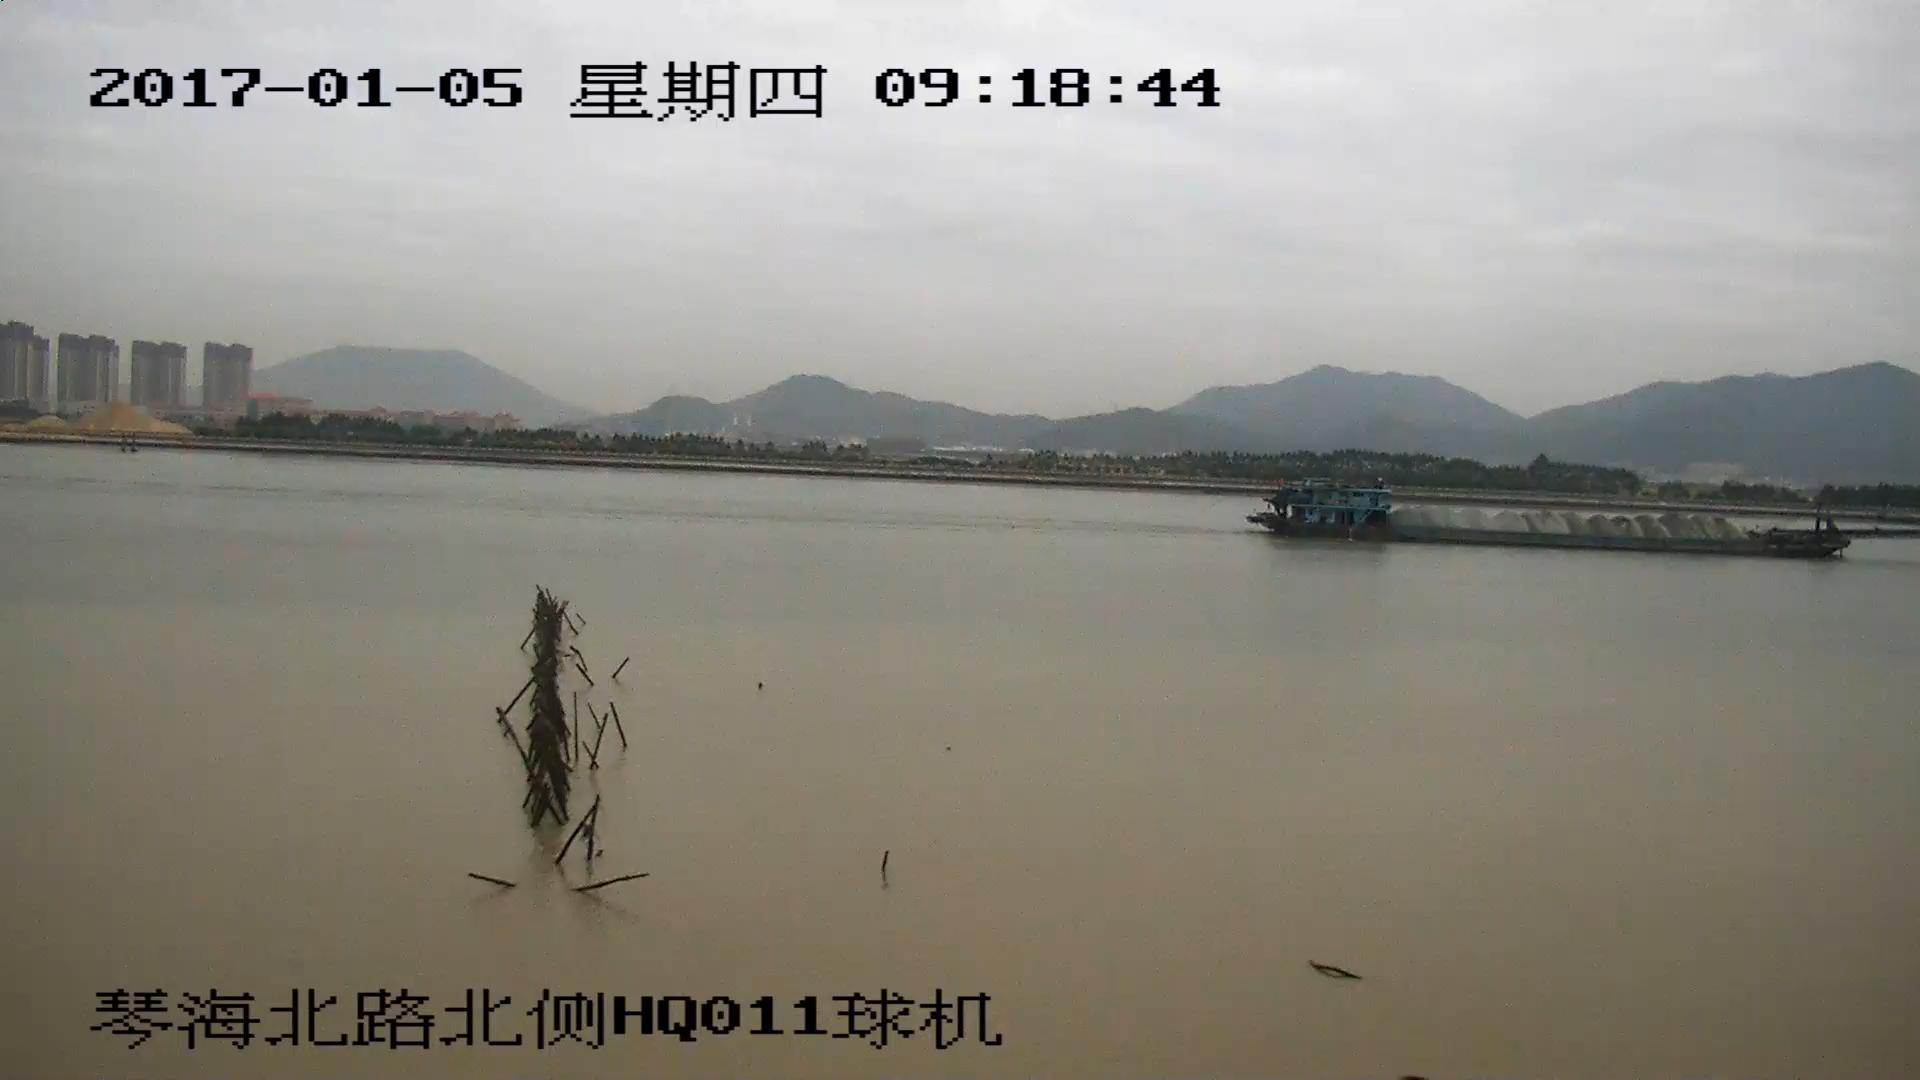ore carrier: (1252, 480, 1920, 559)
